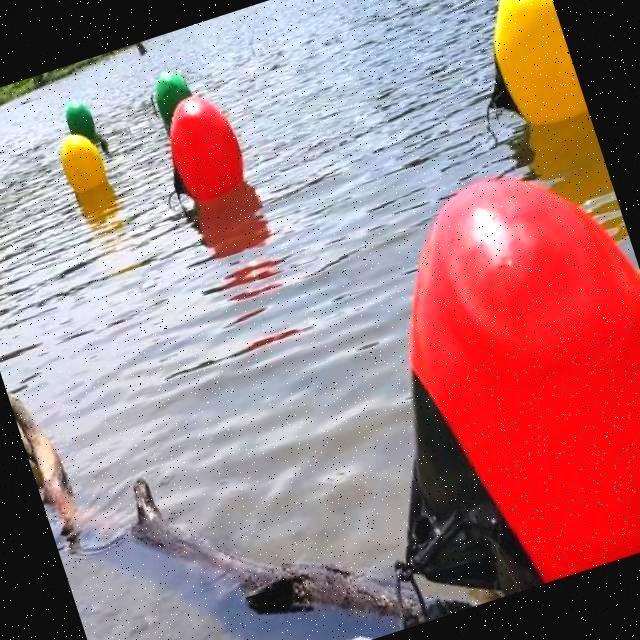buoy: (278, 134, 640, 628), (442, 0, 592, 154), (138, 86, 256, 222), (55, 128, 112, 204), (148, 66, 200, 134), (58, 95, 100, 148)
